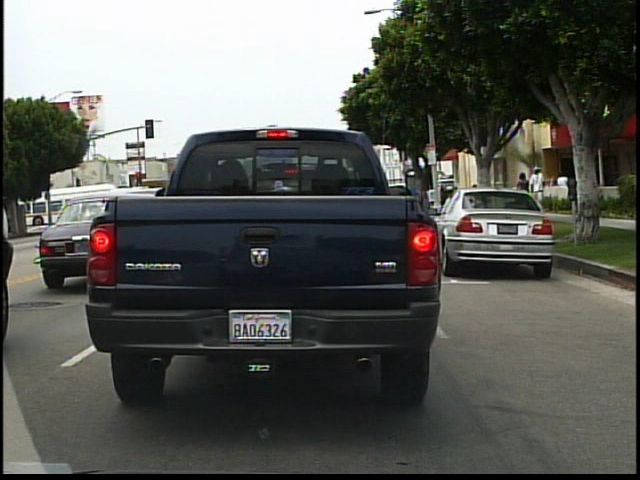person: (553, 168, 573, 214), (474, 176, 493, 219)
